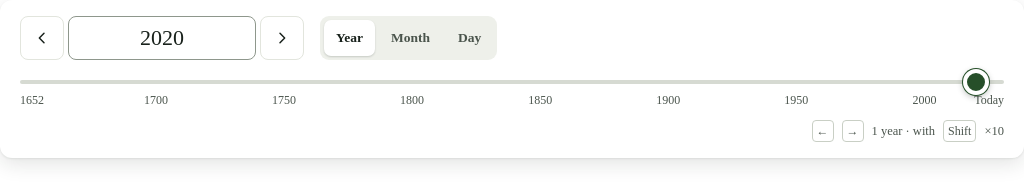
clears the error when a step button moves the date
The width and height of the screenshot is (1024, 184).
Replace the text in the field named "Date shown" with "abc" at (162, 38), box left=81, top=16, right=243, bottom=60
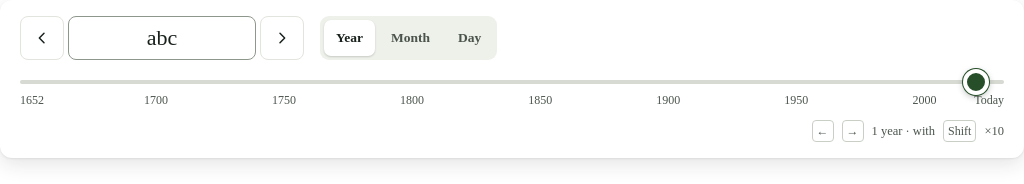
Press Enter in the field named "Date shown", box left=81, top=16, right=243, bottom=60
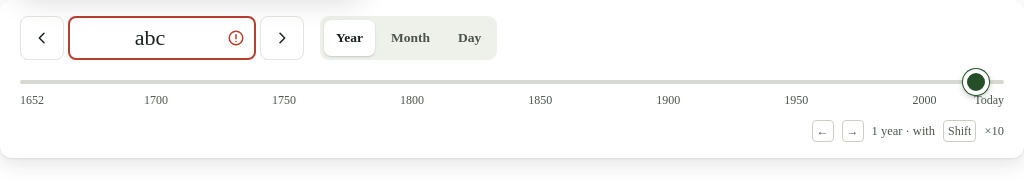
Click the button named "Back".
click(42, 38)  # box left=20, top=16, right=64, bottom=60
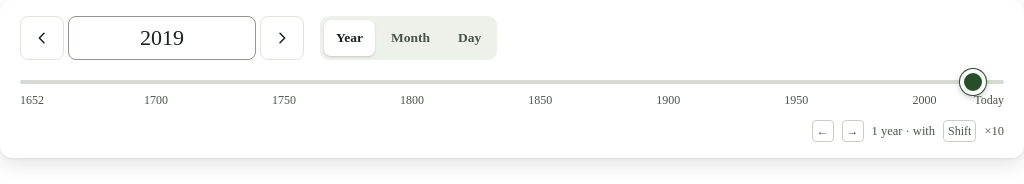
Result: the text "The map still shows" is gone
Result: the field named "Date shown" holds "2019" at left=81, top=16, right=243, bottom=60
